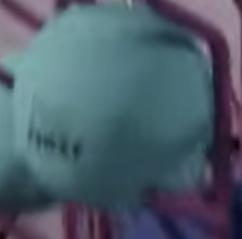algae: (15, 5, 214, 204), (0, 54, 57, 212)
